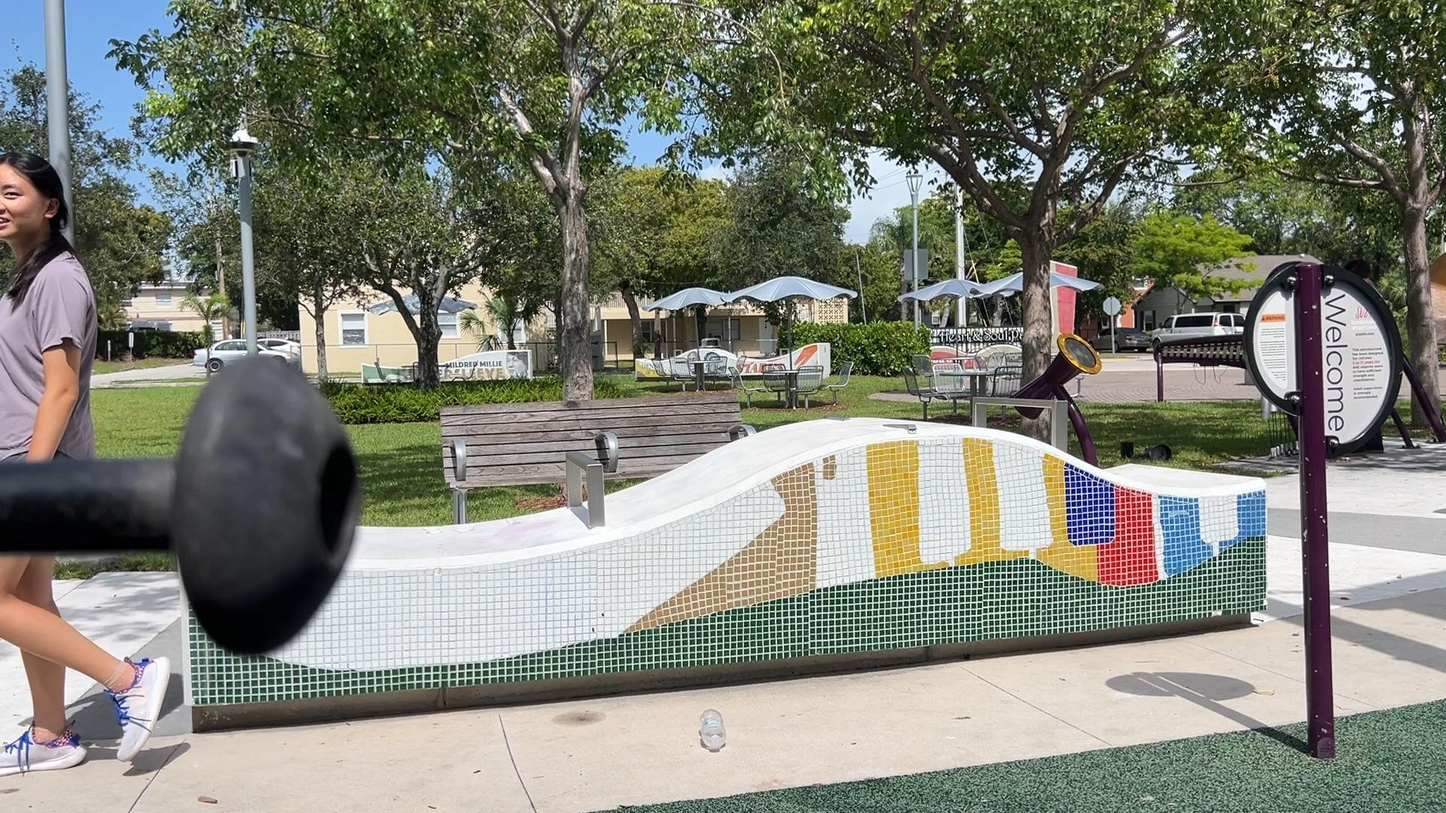Trash: (682, 697, 733, 761)
